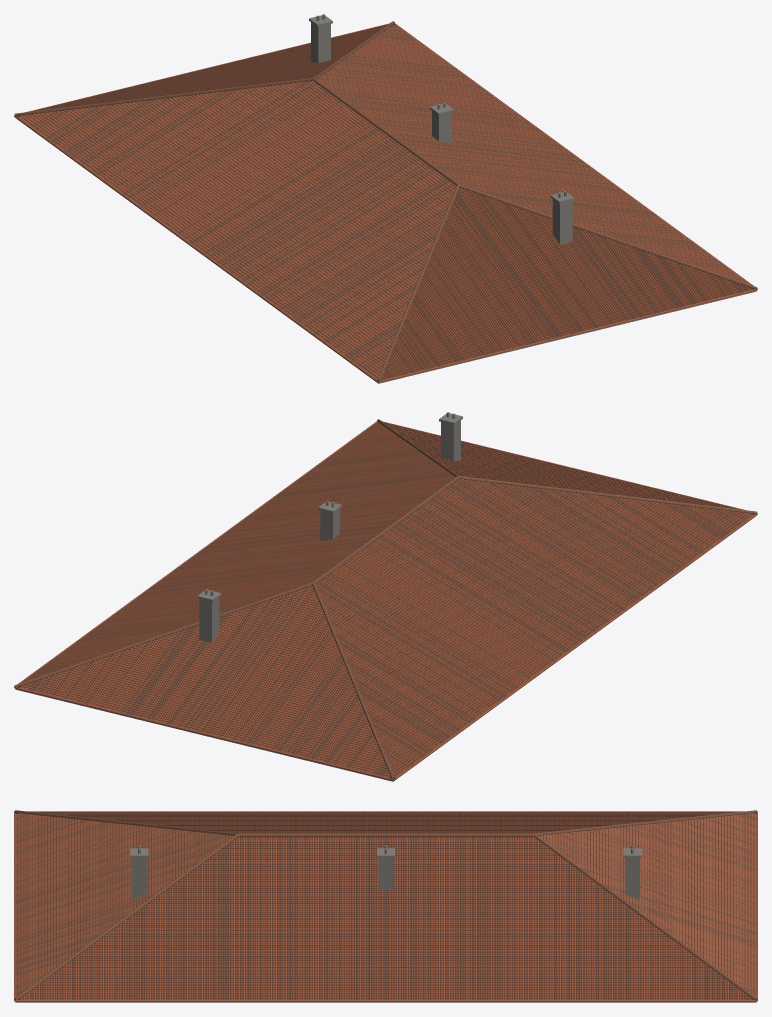
The model's file is SM_Malikane_Cati.fbx.
3 renders of one model, top to bottom at view 1: azimuth 30°, elevation 25°; view 2: azimuth 150°, elevation 25°; view 3: azimuth 270°, elevation 25°, orthographic.
Parts seen in each view (by area): view 1: Malikane_Cati; view 2: Malikane_Cati; view 3: Malikane_Cati.
Boxes of the visible parts, left/top/right/bottom form: Malikane_Cati: left=14, top=14, right=757, bottom=383; Malikane_Cati: left=14, top=412, right=757, bottom=781; Malikane_Cati: left=14, top=810, right=757, bottom=1002.
Size of the model in its own units: 5456 by 1290 by 9056.
